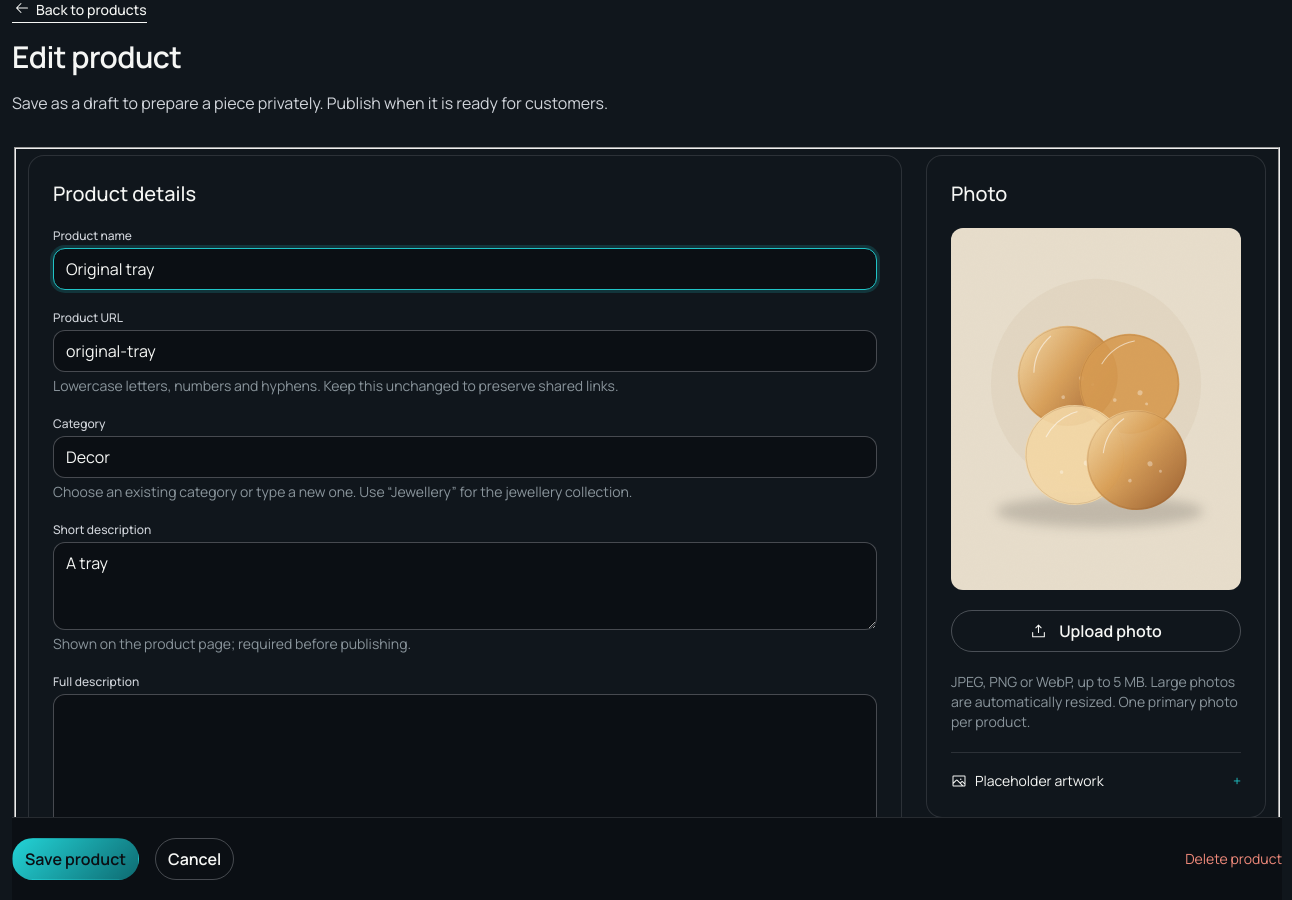
Test: owner product editor › retains the editor on a save conflict and displays the actual error
Click the button "Save product" at (76, 859), box [12,838,139,880]
(page scrolled)
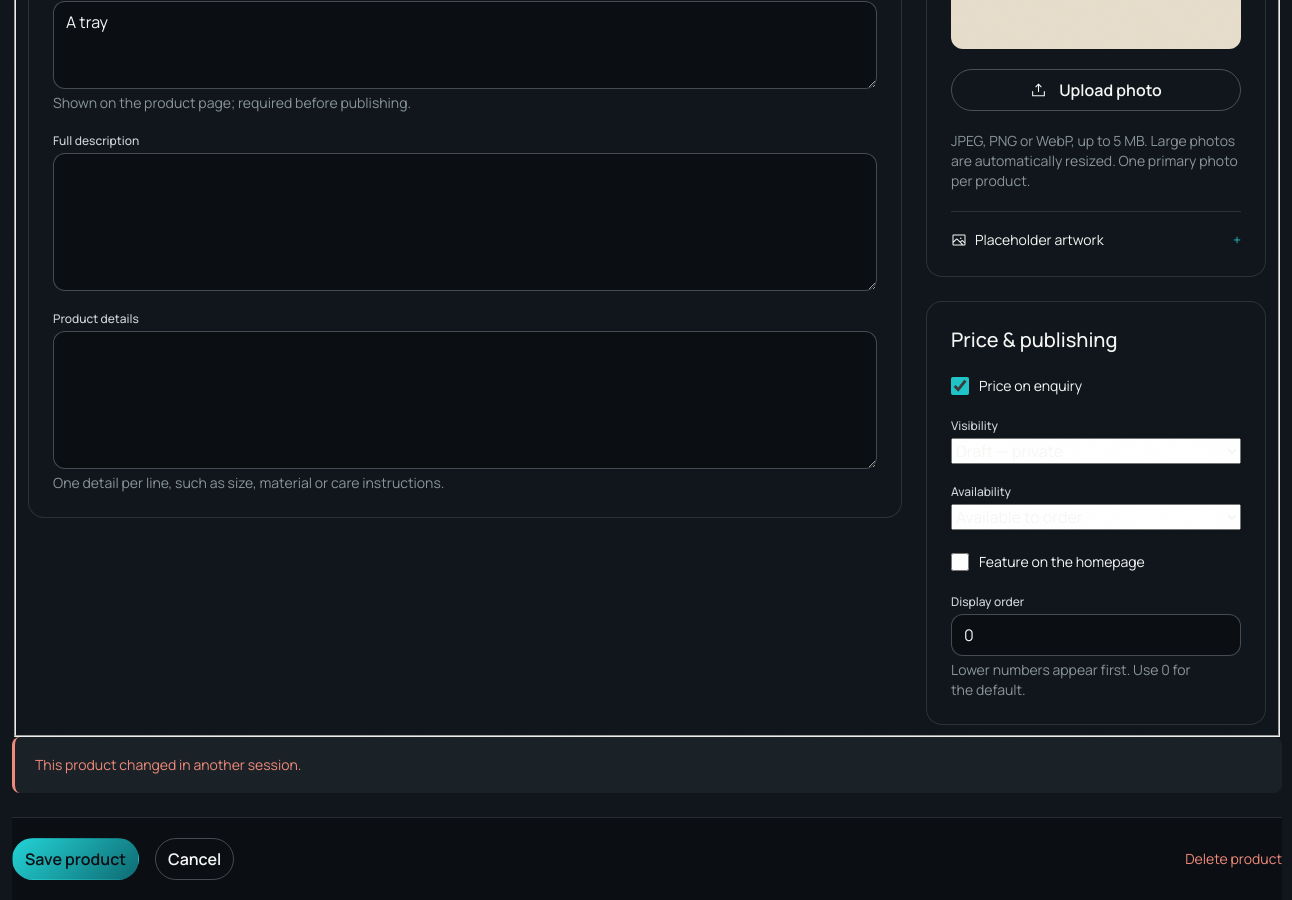
Expected: the message shows "changed in another session", [35,755,301,774]
